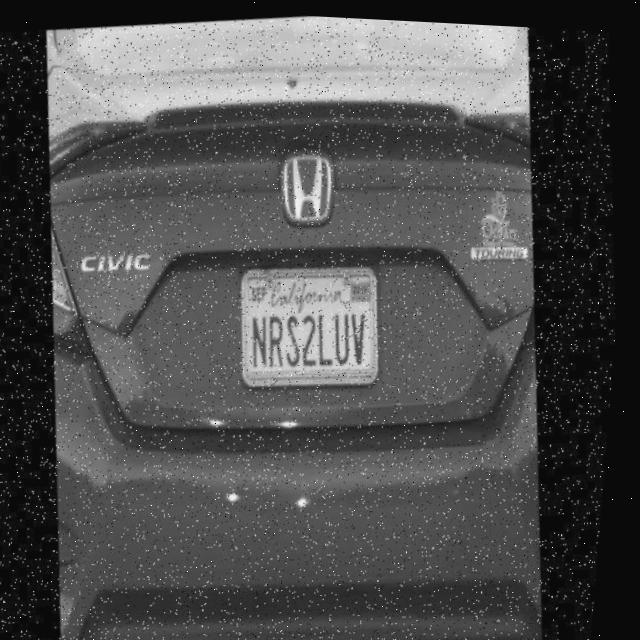LicensePlate: (234, 249, 396, 392)
